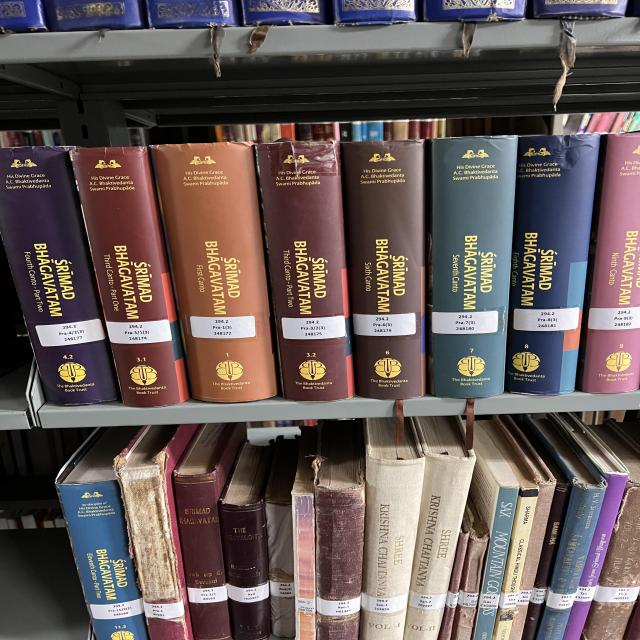Book: (153, 142, 277, 401), (0, 146, 118, 404), (72, 148, 188, 406), (257, 141, 353, 401), (505, 134, 600, 395), (430, 136, 518, 398), (342, 140, 425, 400), (580, 134, 640, 394)
Label: (35, 319, 105, 346), (282, 315, 347, 340), (107, 319, 172, 344), (513, 308, 580, 331), (353, 312, 417, 336), (432, 311, 498, 334), (190, 316, 255, 339), (588, 306, 640, 330)
